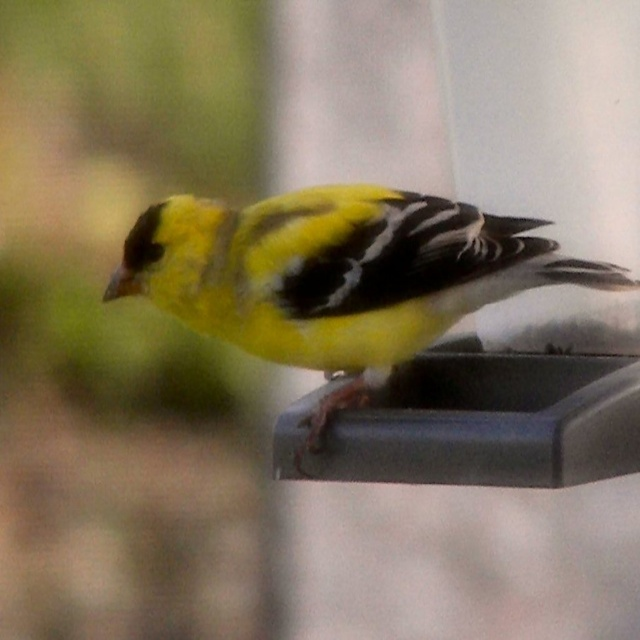Canary: (105, 179, 639, 477)
